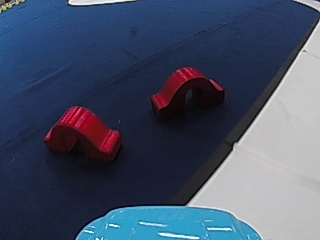bridge: (42, 102, 125, 161), (143, 63, 227, 119)
